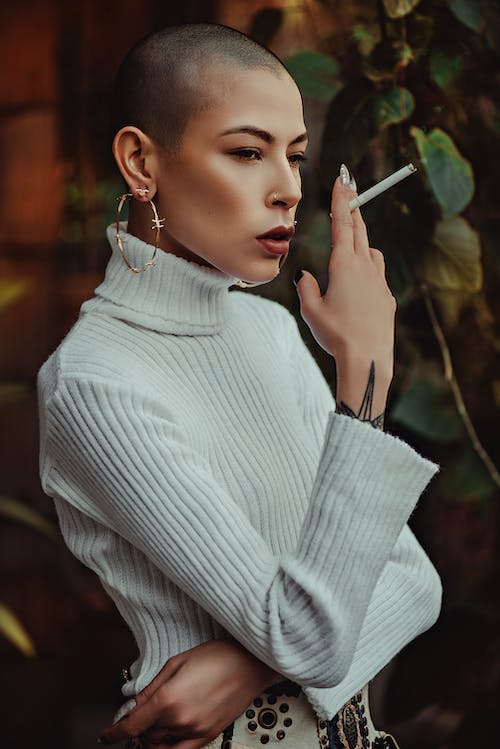cigarette: (327, 159, 419, 222)
